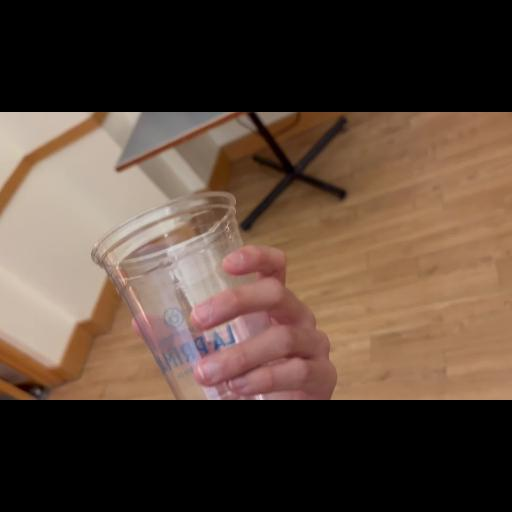lp_plastic_cup: (78, 204, 314, 400)
